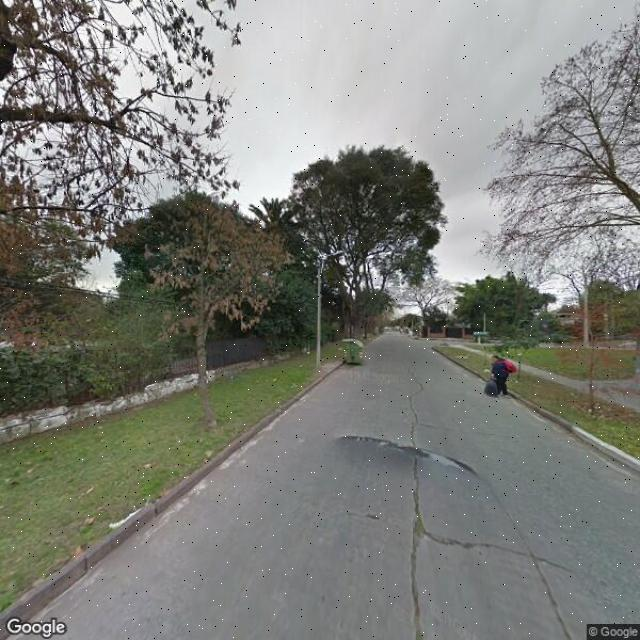garbage container: (336, 333, 369, 371)
